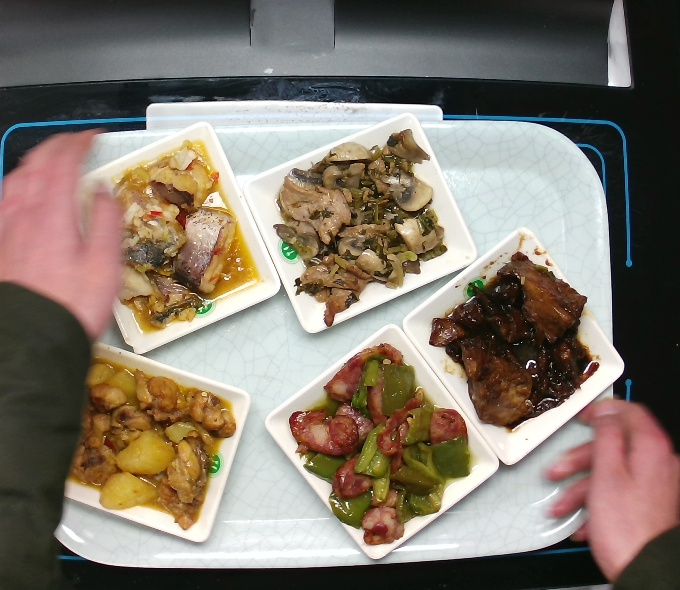wcq-JiangZhiYa: (427, 250, 599, 431)
wcq-MoGuRouPian: (272, 126, 449, 329)
wcq-QingJiaoXiangChang: (287, 340, 471, 548)
wcq-TuDouJiKuai: (66, 356, 238, 530)
